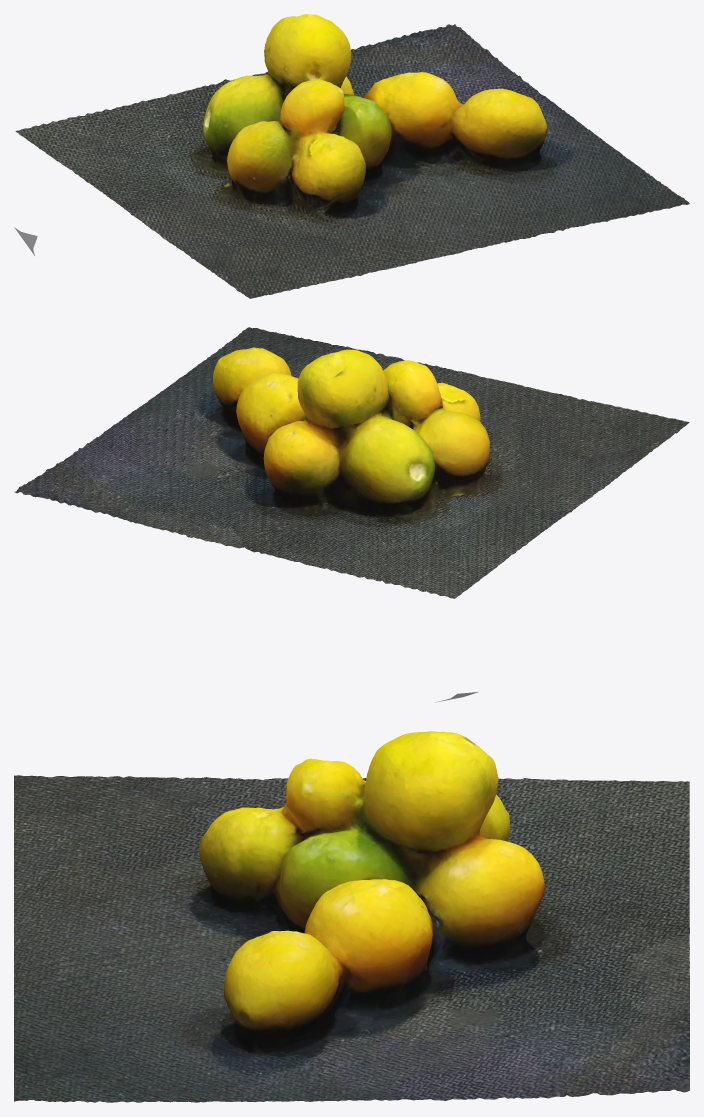
File: kumquat-0.glb
The picture shows the model from 3 angles, top to bottom: view 1: azimuth 30°, elevation 25°; view 2: azimuth 150°, elevation 25°; view 3: azimuth 270°, elevation 25°; orthographic projection. The views are drawn at different scales.
Visible parts, largest first — view 1: Object_2; view 2: Object_2; view 3: Object_2.
Part boxes in pixels (x1,y1,x2,y2): Object_2: (14, 14, 689, 298); Object_2: (14, 327, 689, 702); Object_2: (14, 731, 689, 1102).
Size of the model in its own units: 11.07 by 5.74 by 10.19.
1 material, 1 textured.
